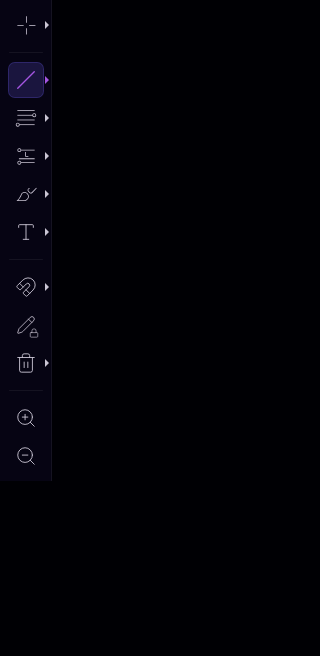
Test: LeftToolbar — keyboard menus › [10.7.18] should open on the chosen row, move with the arrows, close with Escape back to the caret
Click the button named "Trend Lines tools": (47, 80) [42,63,52,97]
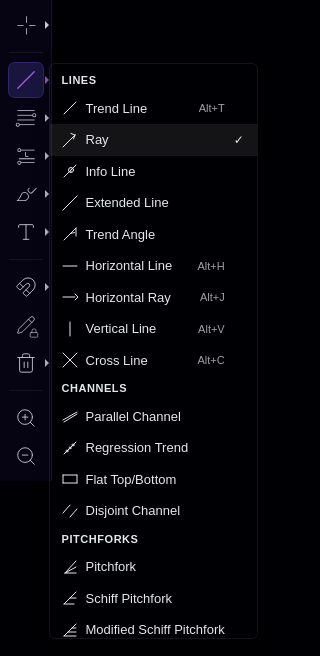
Check: the button named "Trend Lines tools" is expanded, box [42,63,52,97]
Check: the text "Ray" is shown, box [86,132,109,147]
Press ArrowDown in the menu named "Trend Lines tools", box [48,63,258,639]
Check: the text "Info Line" is shown, box [86,164,135,178]
Press ArrowUp in the menu named "Trend Lines tools", box [48,63,258,639]
Press ArrowUp in the menu named "Trend Lines tools", box [48,63,258,639]
Check: the text "Trend Line" is shown, box [86,100,147,116]
Press Escape in the menu named "Trend Lines tools", box [48,63,258,639]
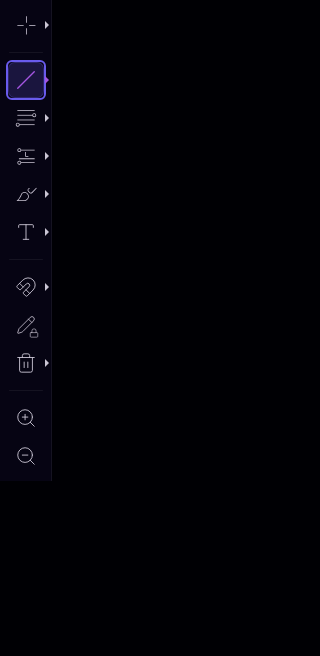
Check: the menu is gone
